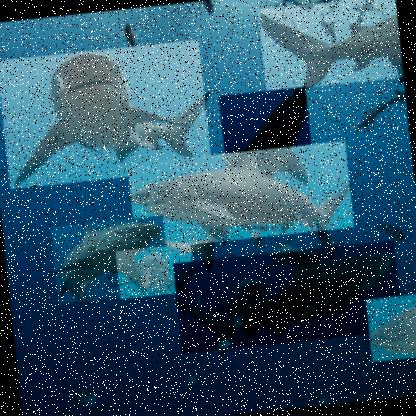bulldog-shark: (0, 38, 211, 190), (170, 239, 402, 354), (125, 138, 353, 250), (255, 0, 403, 93), (48, 214, 170, 303), (216, 86, 313, 184), (113, 242, 194, 299), (363, 292, 415, 364)
